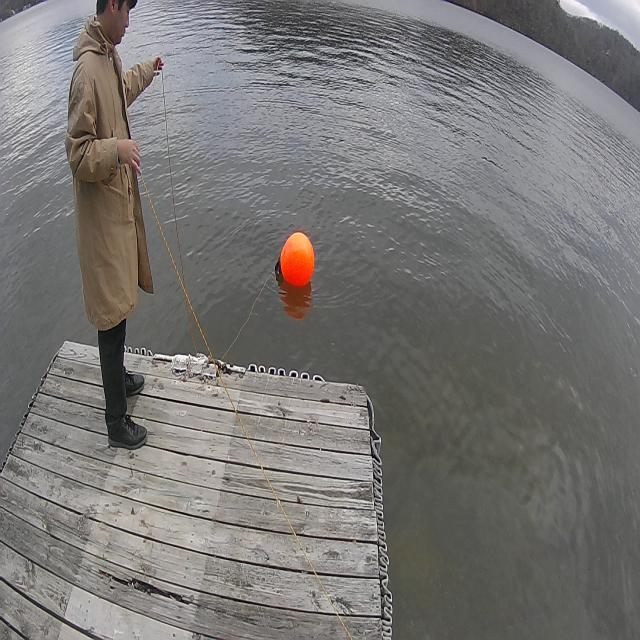Buoy: (273, 228, 317, 296)
